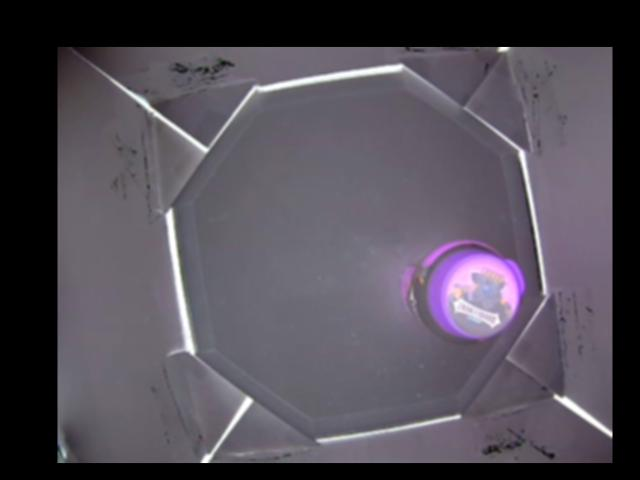Bottle: (400, 241, 528, 344)
